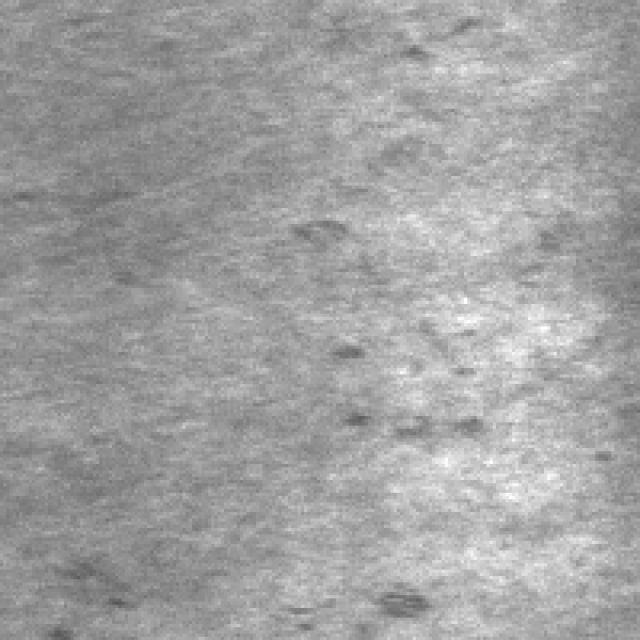rolled-in_scale: (285, 211, 477, 432)
